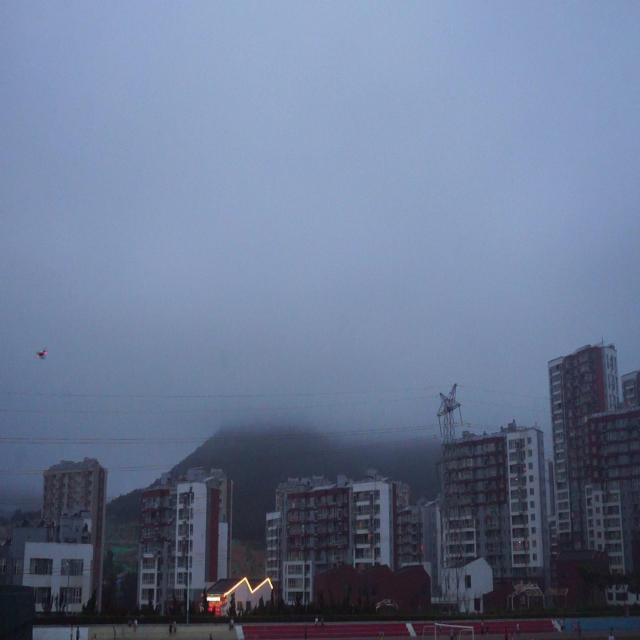drone: (34, 342, 50, 362)
